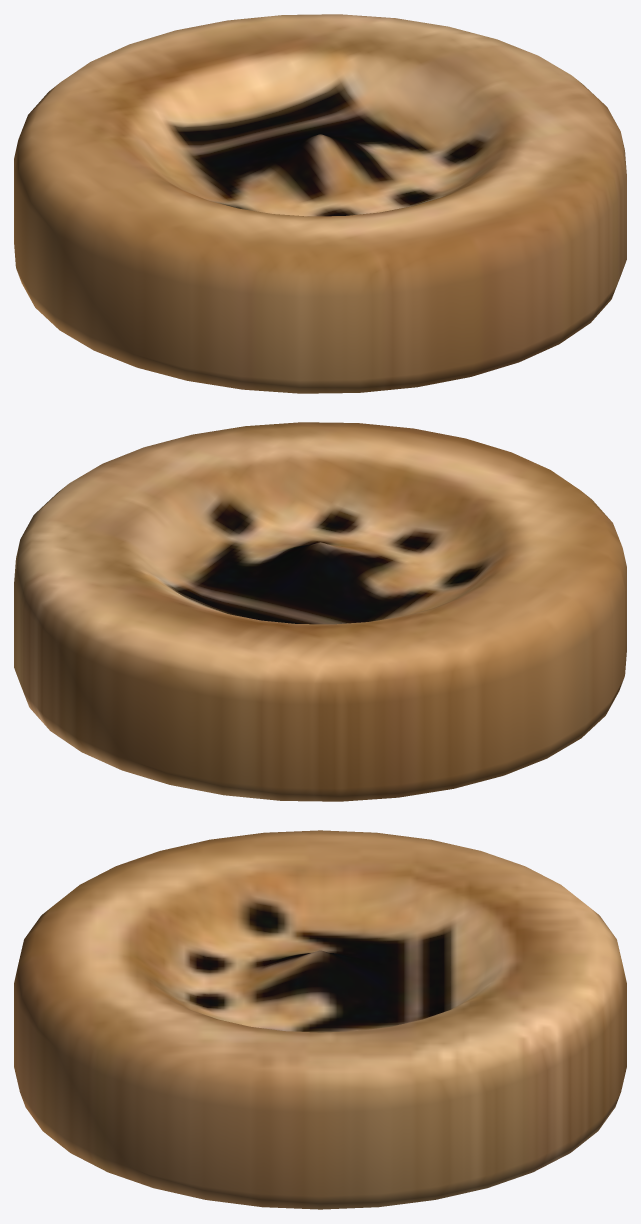
Rendered from CheckerProjection.FBX.
3 renders of one model, top to bottom at view 1: azimuth 30°, elevation 25°; view 2: azimuth 150°, elevation 25°; view 3: azimuth 270°, elevation 25°, orthographic.
Parts seen in each view (by area): view 1: shashka; view 2: shashka; view 3: shashka.
Boxes of the visible parts, bbox=[...] form: shashka: bbox=[14, 14, 626, 393]; shashka: bbox=[14, 422, 626, 801]; shashka: bbox=[14, 830, 626, 1209].
Size of the model in its own units: 4 by 1 by 4.
Materials: 1 (1 with a texture image).
